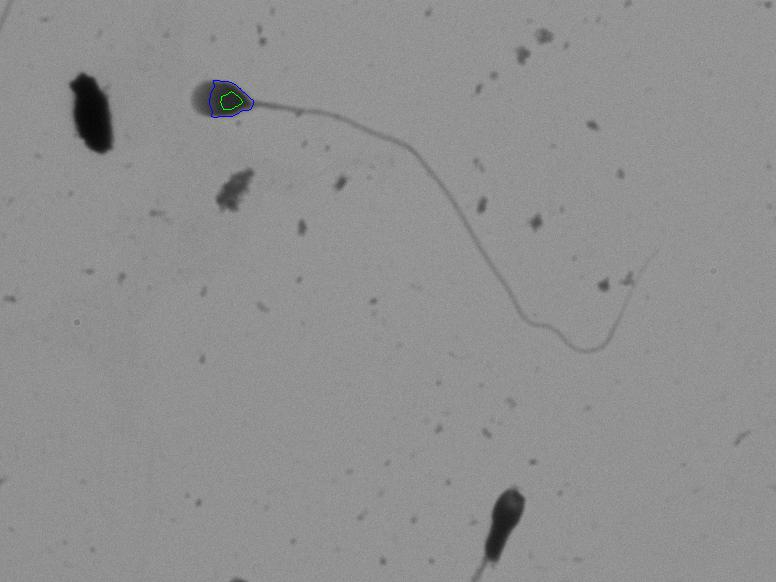Normal: (160, 40, 702, 394)
